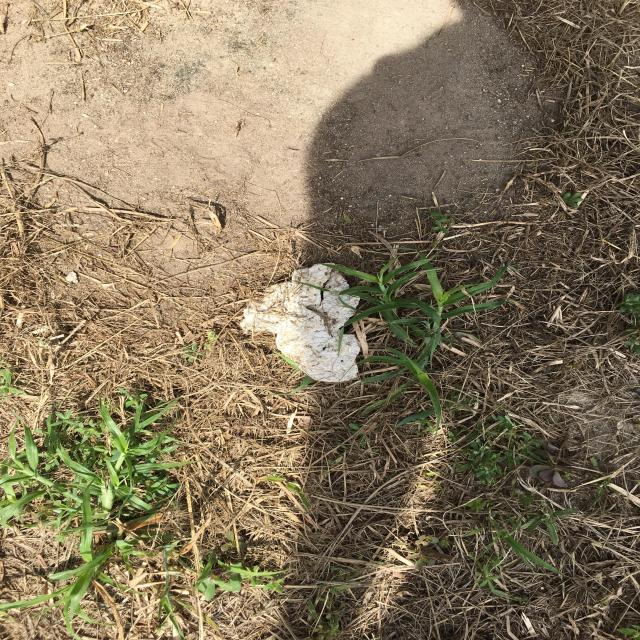litter: (243, 262, 361, 382)
